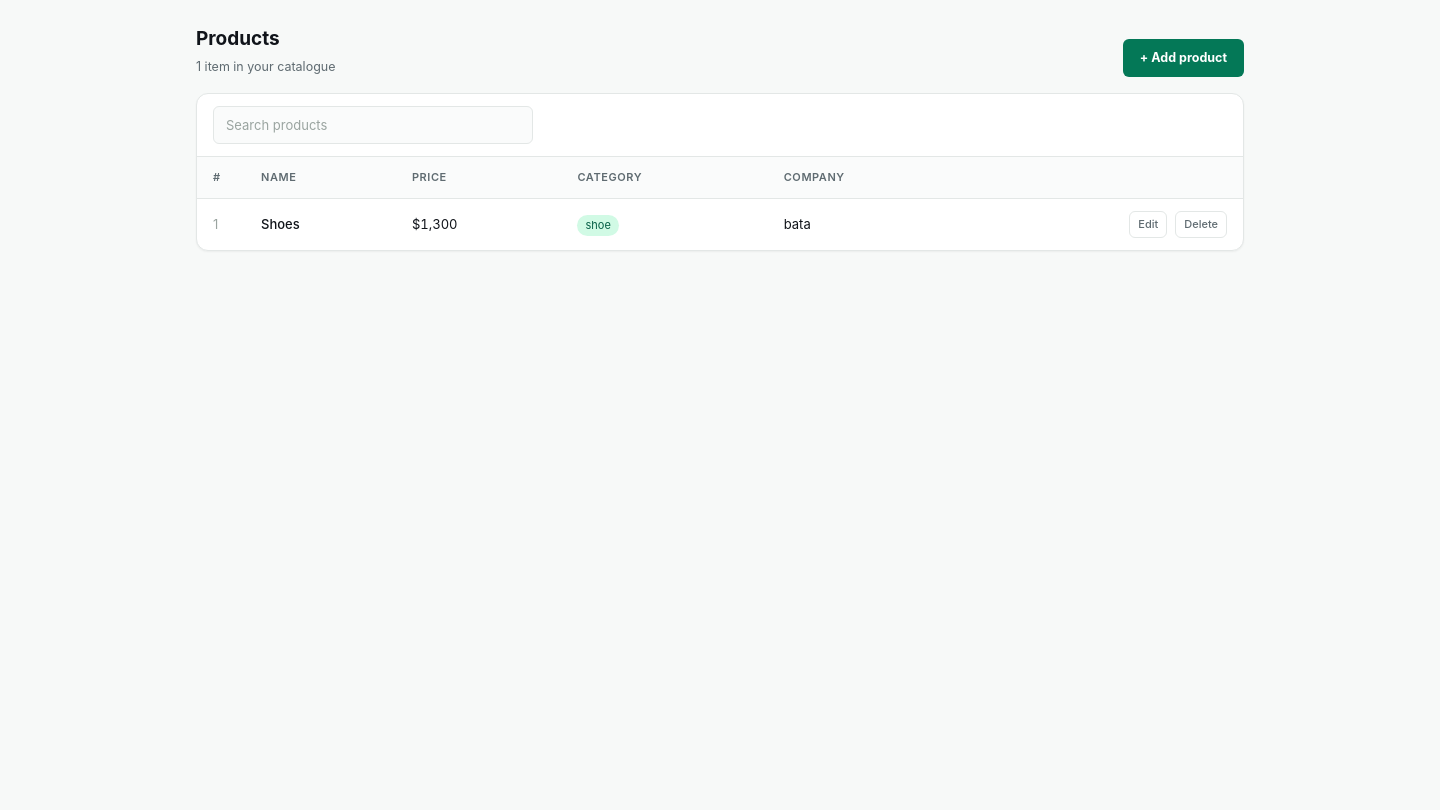
Test: cancelling the dialog leaves the product alone
Expected: the table is shown, [197,157,1243,250]
What coordinates should you click on to do the following:
click the button with aria-label "delete shoes"
I would click on:
 (1201, 224)
Its box is [1175,211,1227,238].
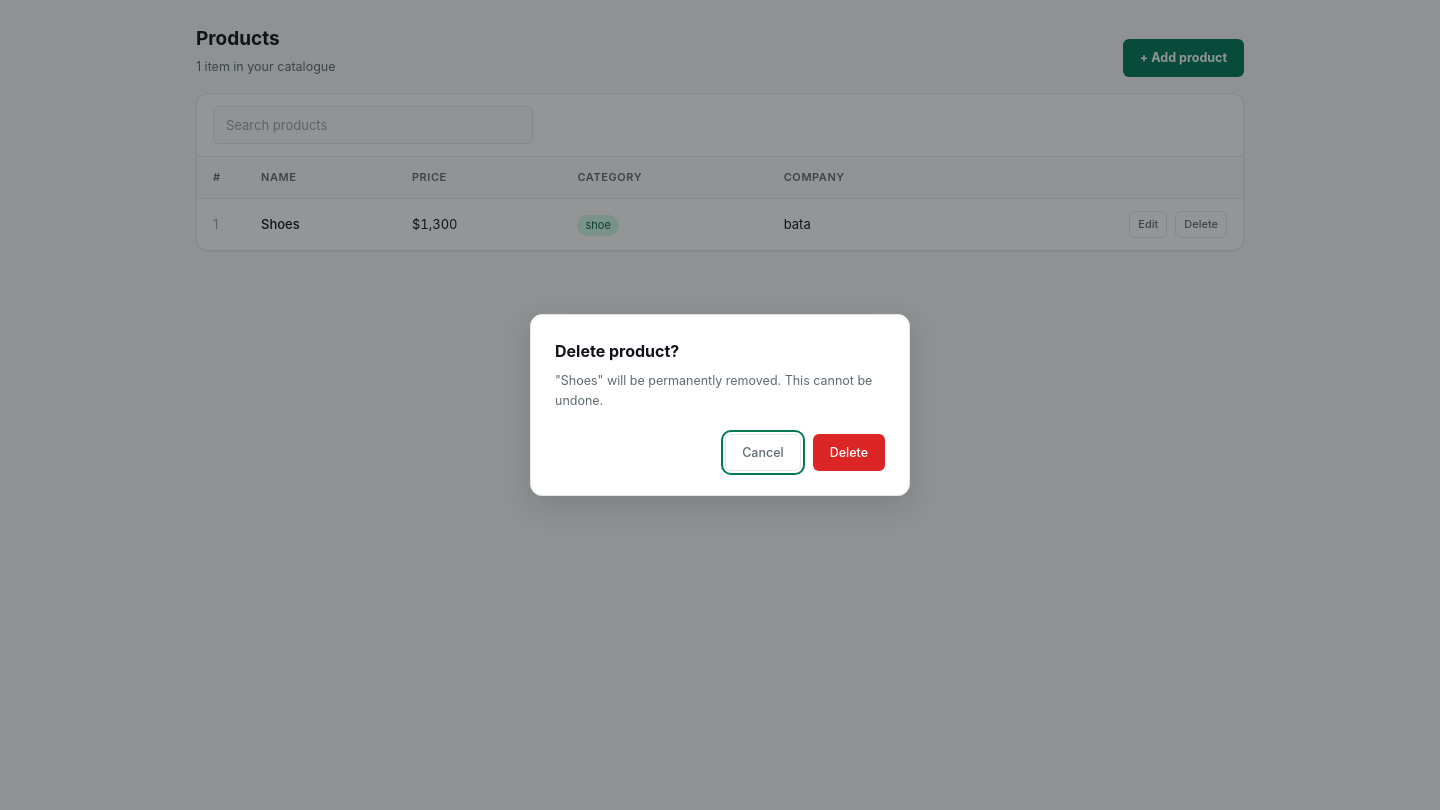
What coordinates should you click on to do the following:
click the button "Cancel"
I would click on:
 (763, 453)
Its box is [725,434,801,472].
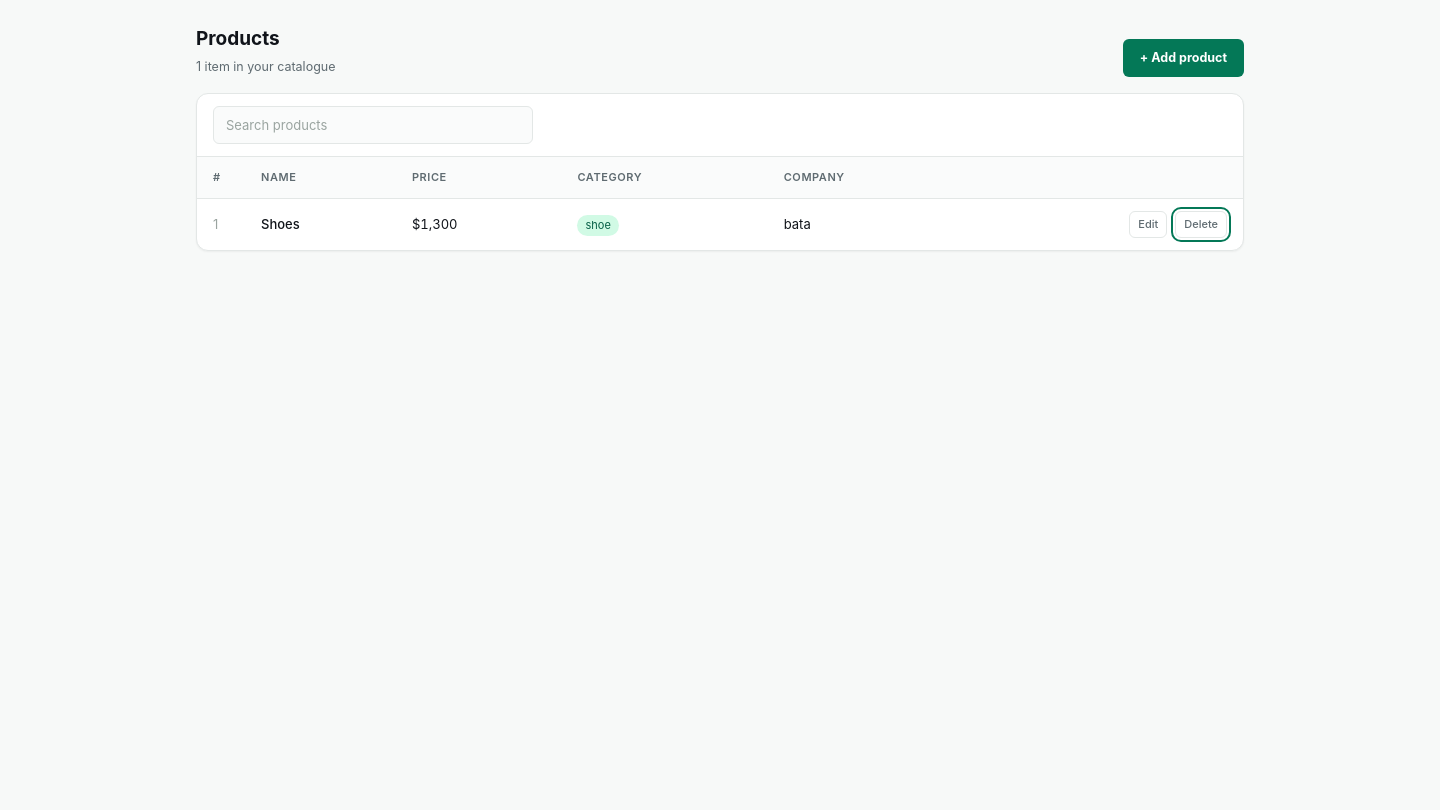
Expected: the dialog is gone
